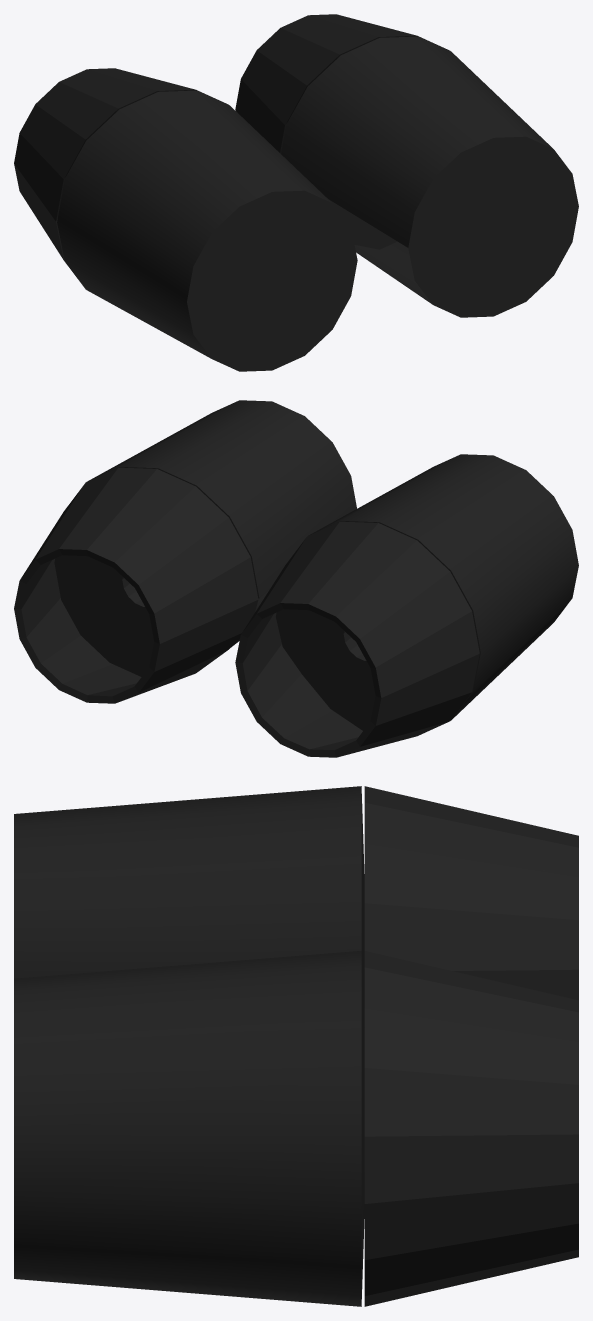
Rendered from 1_Thruster.fbx.
3 views of the same model, one above another, from view 1: azimuth 30°, elevation 25°; view 2: azimuth 150°, elevation 25°; view 3: azimuth 270°, elevation 25° (orthographic). The views are drawn at different scales.
Parts seen in each view (by area): view 1: fighter1.002; view 2: fighter1.002; view 3: fighter1.002.
Part boxes in pixels (x1,y1,x2,y2): fighter1.002: (14,14,578,371); fighter1.002: (14,400,578,757); fighter1.002: (14,786,578,1306).
Bounding box in the file's own units: 0.6312 × 0.3015 × 0.478.
1 material, 1 textured.
